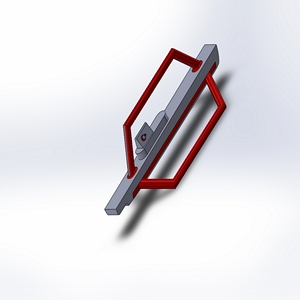submarine: (95, 35, 227, 234)
